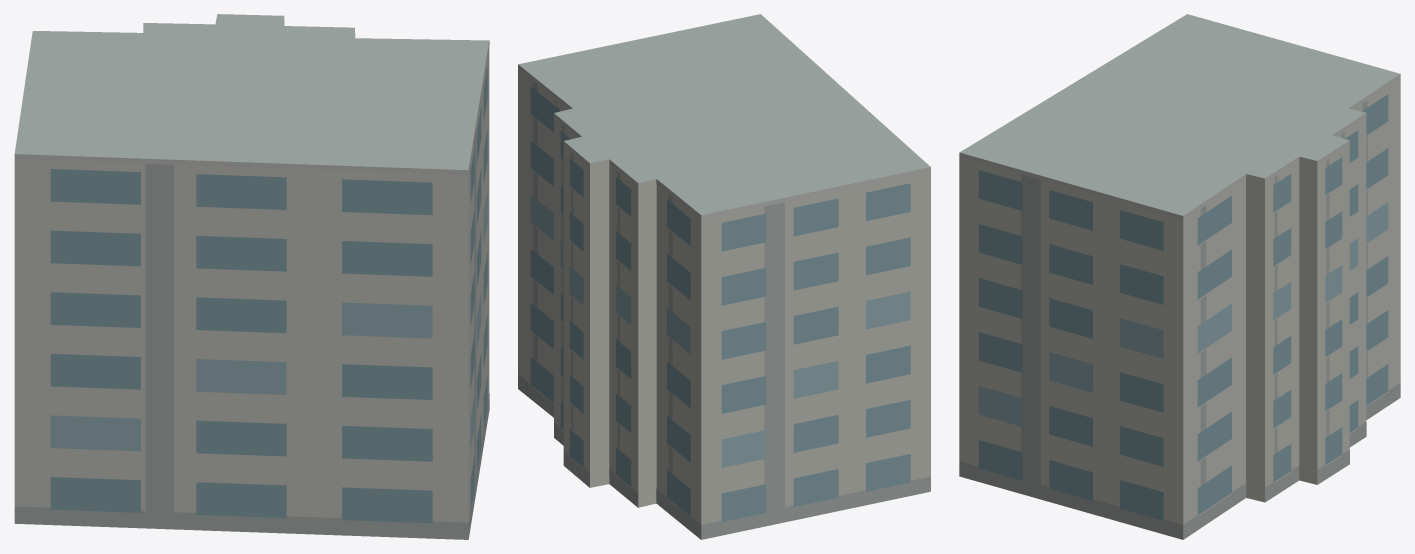
File: survey-upis-32824421.glb
3 renders of one model, left to right at view 1: azimuth 30°, elevation 25°; view 2: azimuth 150°, elevation 25°; view 3: azimuth 270°, elevation 25°, orthographic. The views are drawn at different scales.
Visible parts, largest first — view 1: survey-upis-32824421.tmp; view 2: survey-upis-32824421.tmp; view 3: survey-upis-32824421.tmp.
Part boxes in pixels (<box>): survey-upis-32824421.tmp: <box>14,14,489,539</box>; survey-upis-32824421.tmp: <box>518,14,930,539</box>; survey-upis-32824421.tmp: <box>959,14,1400,539</box>.
Size of the model in its own units: 22.88 by 17.1 by 21.12.
